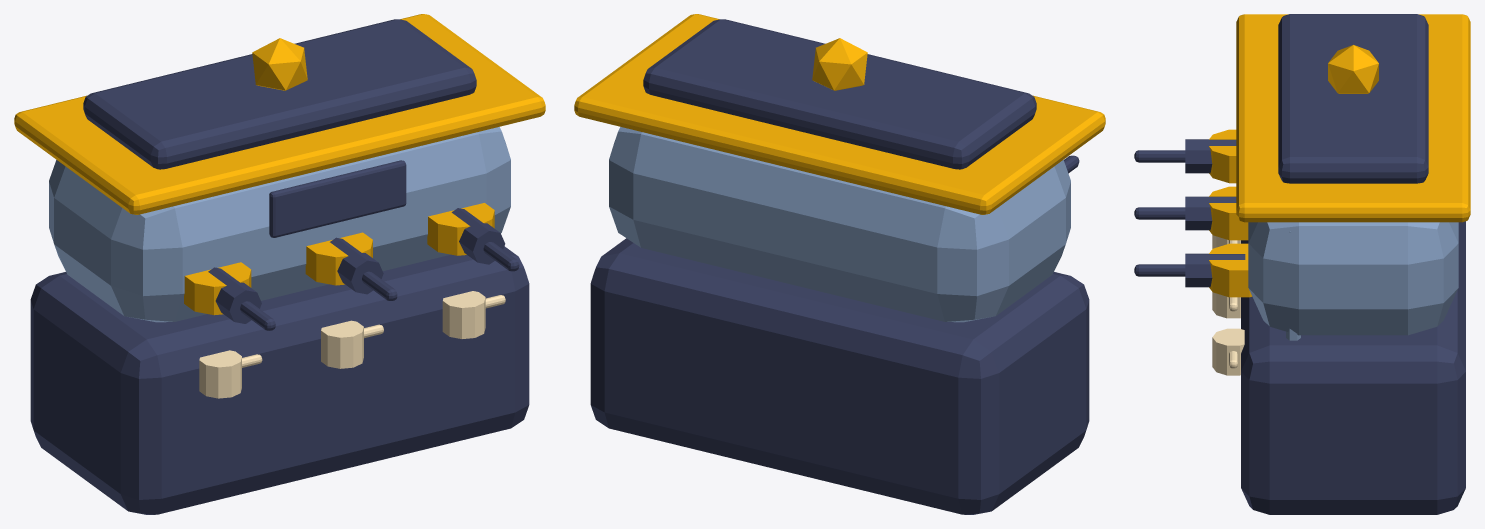
File: cafe_espresso.glb
The picture shows the model from 3 angles, left to right: view 1: azimuth 30°, elevation 25°; view 2: azimuth 150°, elevation 25°; view 3: azimuth 270°, elevation 25°; orthographic projection. The views are drawn at different scales.
Parts seen in each view (by area): view 1: Cube.001; view 2: Cube.001; view 3: Cube.001.
Boxes of the visible parts, left/top/right/bottom form: Cube.001: left=14, top=14, right=545, bottom=514; Cube.001: left=574, top=14, right=1105, bottom=514; Cube.001: left=1134, top=14, right=1470, bottom=514.
Bounding box in the file's own units: 1.54 × 1.42 × 1.12.
